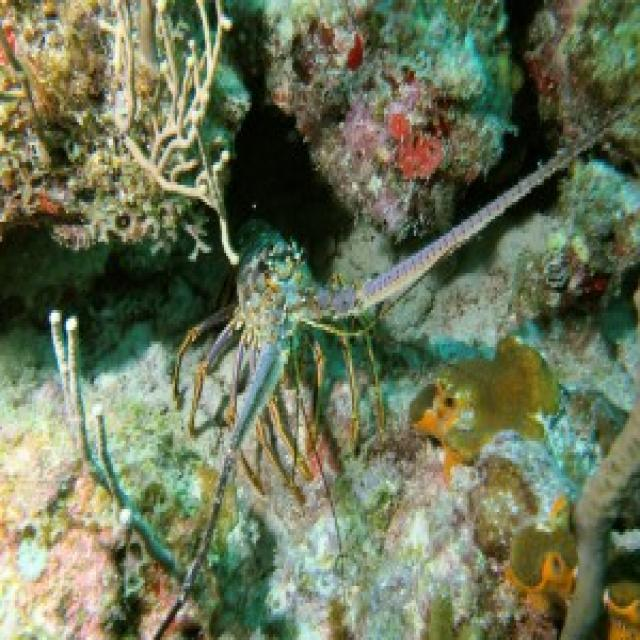lobsters: (125, 202, 546, 544)
